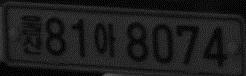0: (151, 22, 175, 64)
1: (68, 17, 91, 59)
4: (201, 24, 228, 67)
7: (175, 24, 199, 64)
8: (125, 20, 149, 62), (44, 15, 66, 56)
아: (93, 22, 117, 58)
울산_V: (20, 14, 44, 55)
